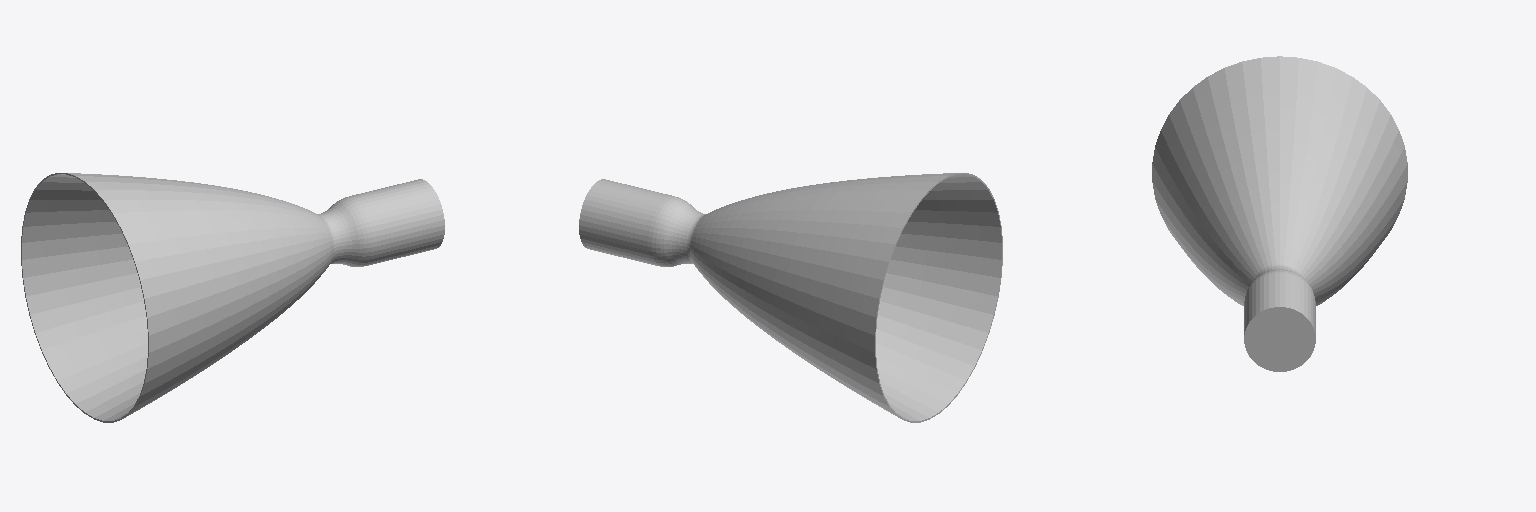
The model's file is Engine_1__Rocket.obj.
The picture shows the model from 3 angles: view 1: azimuth 30°, elevation 25°; view 2: azimuth 150°, elevation 25°; view 3: azimuth 270°, elevation 25°; orthographic projection.
Visible parts, largest first — view 1: g_Mat_Nozzle; view 2: g_Mat_Nozzle; view 3: g_Mat_Nozzle.
Part boxes in pixels (x1,y1,x2,y2): g_Mat_Nozzle: (21, 173, 444, 422); g_Mat_Nozzle: (579, 173, 1002, 422); g_Mat_Nozzle: (1152, 56, 1407, 371).
Bounding box in the file's own units: 2.36 × 1.53 × 1.53.